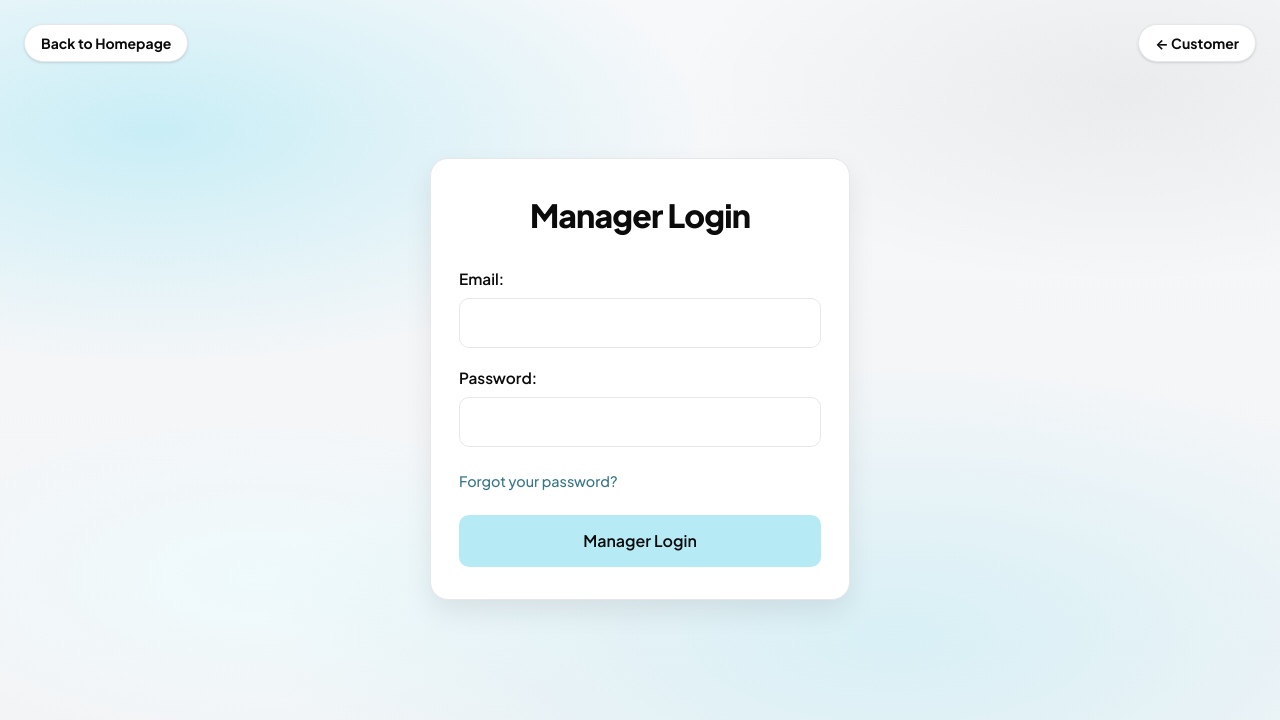
Test: manager dashboard login › shows an error and stays on the login page for wrong credentials
Type "manager@ofs.com" into the field labelled "Email:". click: (640, 323)
box: [459, 298, 821, 348]
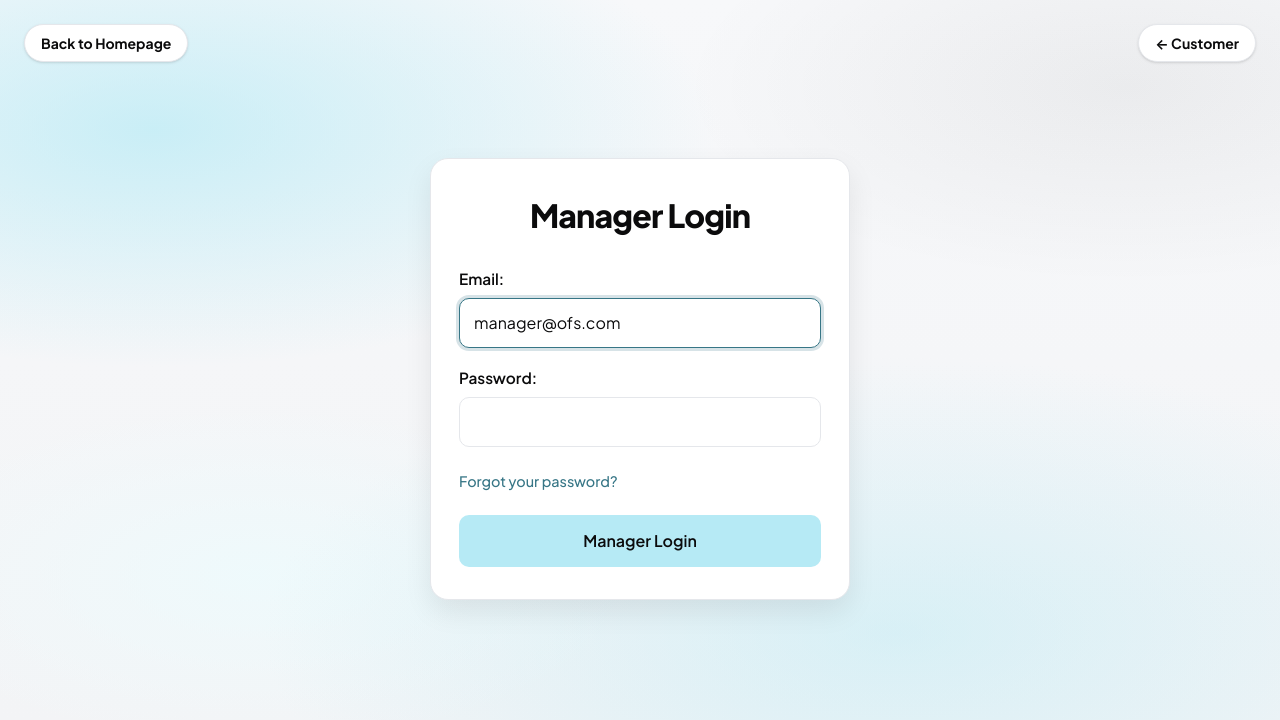
Type "wrong-password" into the password field labelled "Password:". click: (640, 422)
box: [459, 397, 821, 447]
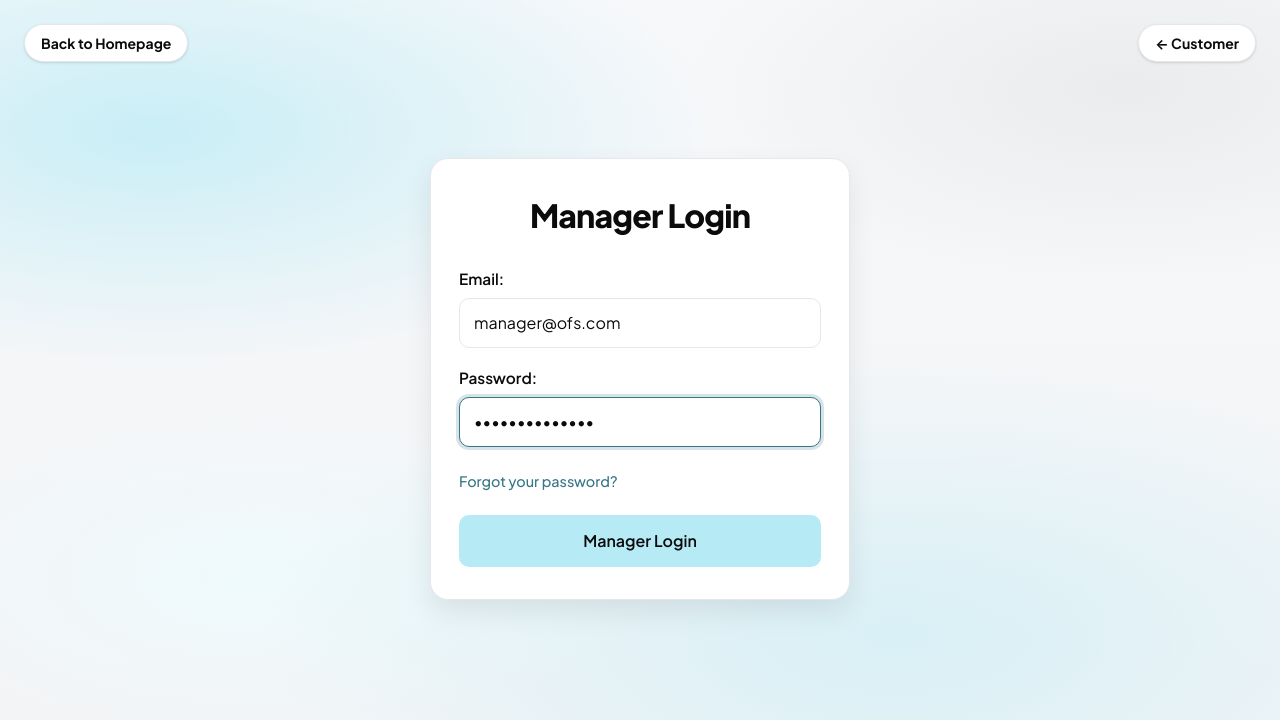
Click the button "Manager Login". click: (640, 541)
box: [459, 515, 821, 567]
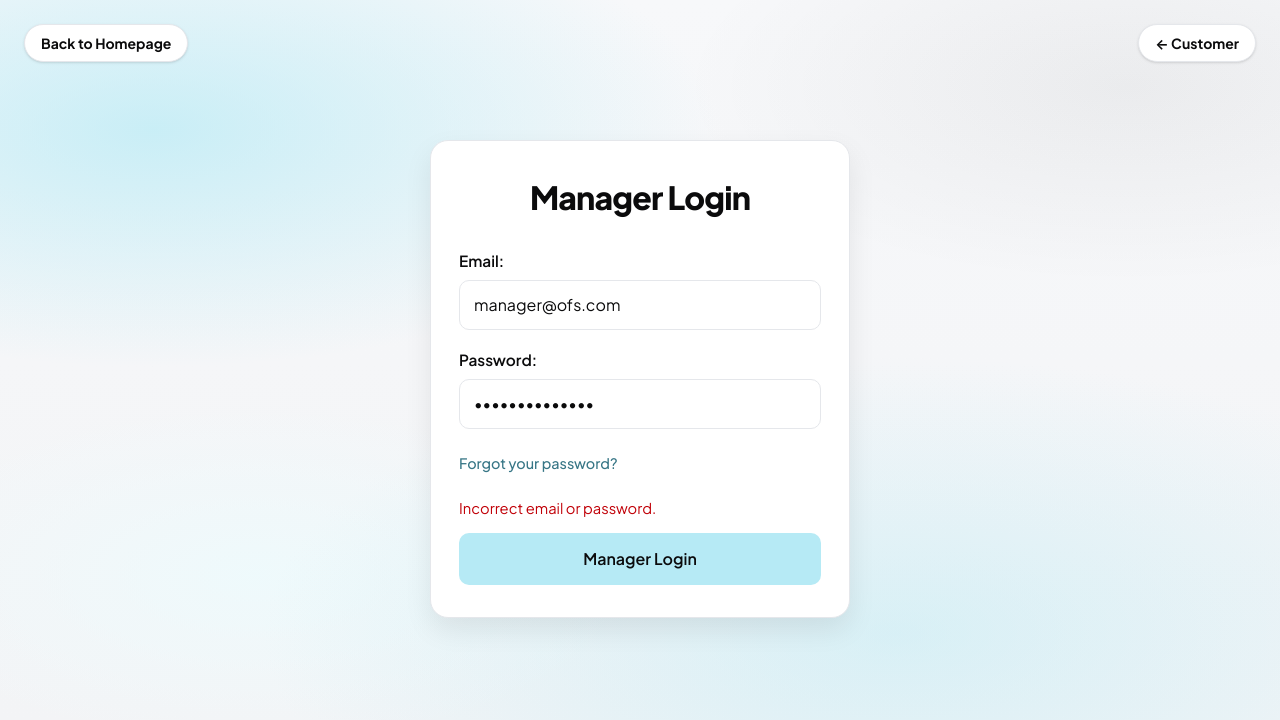
Expected: the button "Manager Login" is enabled, [459, 533, 821, 585]
Now the message reads "Incorrect email or password.", box [459, 499, 656, 517]
